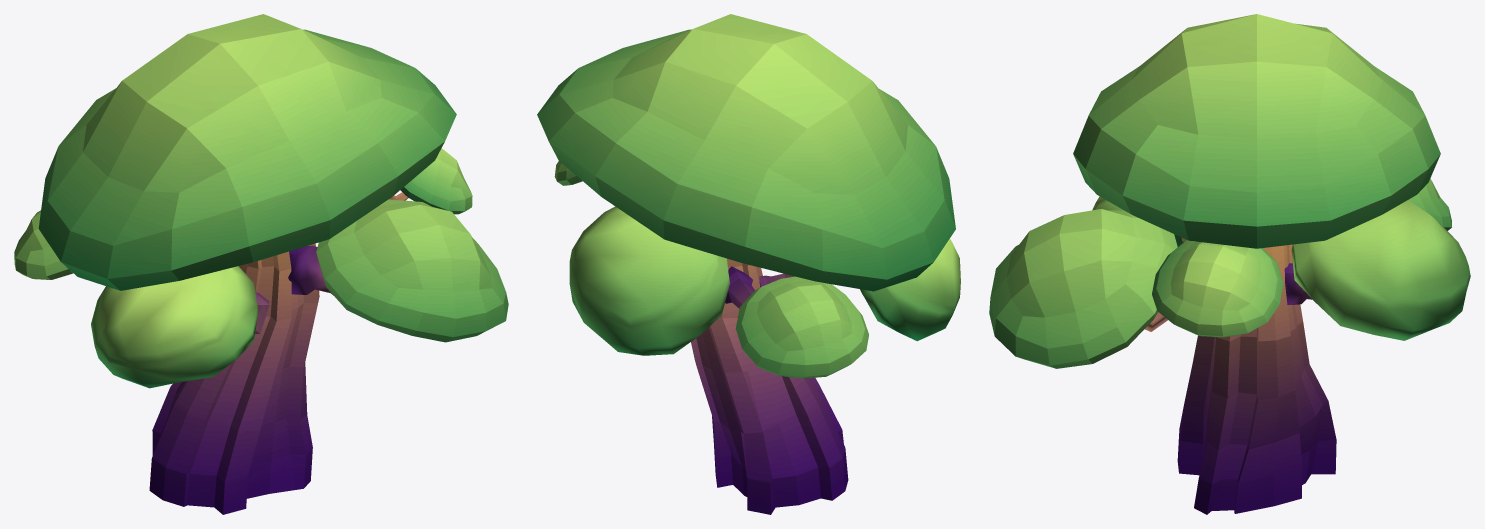
The model's file is tree 2.fbx.
The picture shows the model from 3 angles, left to right: view 1: azimuth 30°, elevation 25°; view 2: azimuth 150°, elevation 25°; view 3: azimuth 270°, elevation 25°; orthographic projection. The views are drawn at different scales.
Visible parts, largest first — view 1: tree_2; view 2: tree_2; view 3: tree_2.
Part boxes in pixels (x1,y1,x2,y2): tree_2: (14,14,508,514); tree_2: (537,14,960,514); tree_2: (989,14,1470,514).
Bounding box in the file's own units: 6.99 × 7.54 × 7.06.
